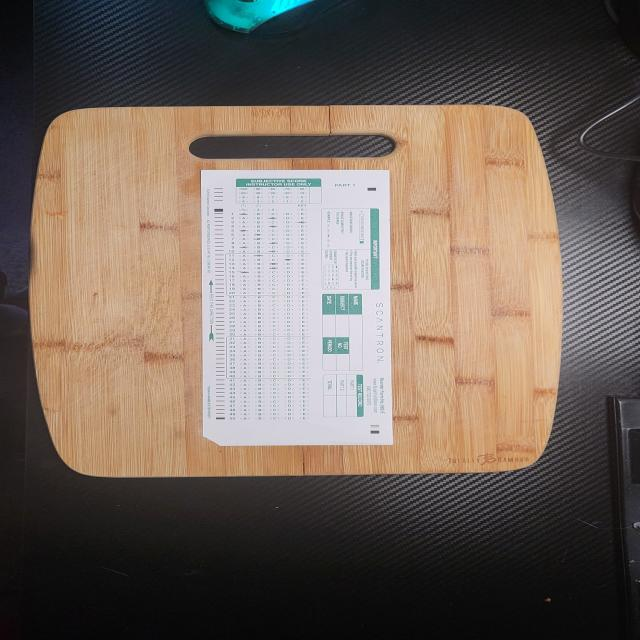scantron: (201, 170, 393, 446)
